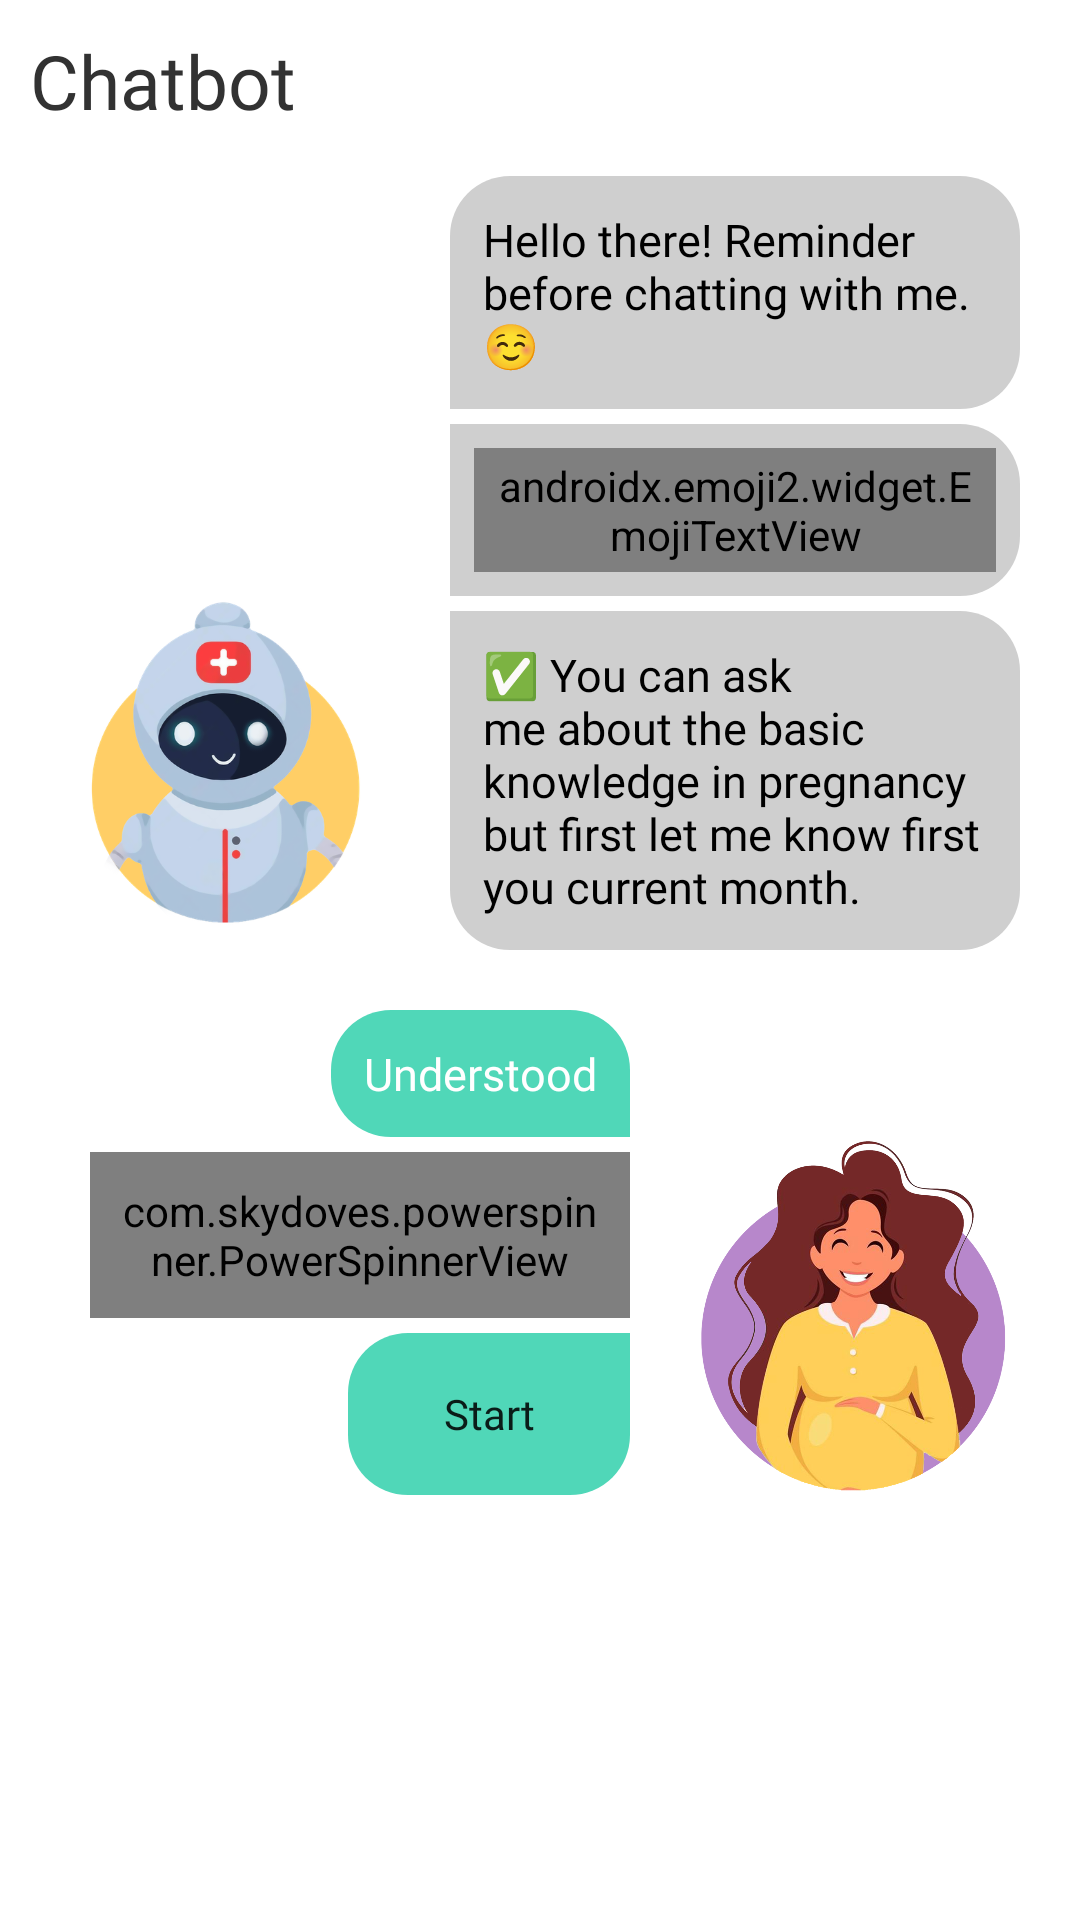

Named icons in this screenshot (1080px x 1920px) and their centers, point (x, y):
women: point (853, 1316)
